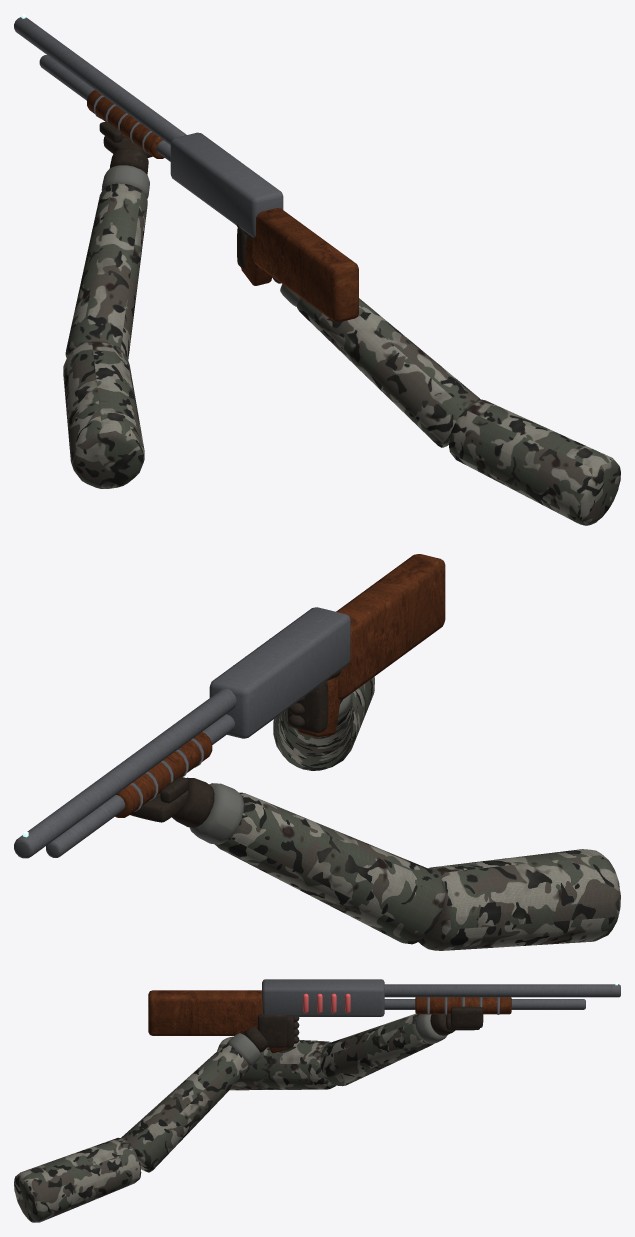
The model's file is vm_shotgun.glb.
3 renders of one model, top to bottom at view 1: azimuth 30°, elevation 25°; view 2: azimuth 150°, elevation 25°; view 3: azimuth 270°, elevation 25°, orthographic. The views are drawn at different scales.
Visible parts, largest first — view 1: UpperArmR, UpperArmL, ForearmR, ForearmL, Stock, Receiver, HeavyBarrel, PumpForend, MagTube, CuffL; view 2: UpperArmL, ForearmL, Receiver, Stock, HeavyBarrel, ForearmR, PumpForend, MagTube, CuffL, WristL, FingersR, UpperArmR (+2 smaller); view 3: UpperArmR, ForearmR, Stock, ForearmL, Receiver, UpperArmL, HeavyBarrel, PumpForend, MagTube, PalmR, FingersL, CuffR (+1 smaller).
Part boxes in pixels (<box>): UpperArmR: <box>449,399,620,525</box>; UpperArmL: <box>63,341,144,488</box>; ForearmR: <box>296,298,479,447</box>; ForearmL: <box>65,183,147,359</box>; Stock: <box>252,208,358,322</box>; Receiver: <box>170,132,283,237</box>; HeavyBarrel: <box>14,17,186,144</box>; PumpForend: <box>87,90,164,158</box>; MagTube: <box>39,55,170,161</box>; CuffL: <box>101,165,149,198</box>; UpperArmL: <box>418,849,620,950</box>; ForearmL: <box>215,792,445,944</box>; Receiver: <box>209,607,350,738</box>; Stock: <box>336,554,445,699</box>; HeavyBarrel: <box>14,688,236,858</box>; ForearmR: <box>274,696,353,770</box>; PumpForend: <box>115,732,212,817</box>; MagTube: <box>46,714,234,857</box>; CuffL: <box>189,783,243,844</box>; WristL: <box>172,777,214,827</box>; FingersR: <box>287,681,328,732</box>; UpperArmR: <box>273,677,374,767</box>; UpperArmR: <box>14,1137,141,1222</box>; ForearmR: <box>121,1044,249,1172</box>; Stock: <box>148,990,262,1035</box>; ForearmL: <box>320,1013,434,1086</box>; Receiver: <box>262,979,384,1016</box>; UpperArmL: <box>217,1036,335,1090</box>; HeavyBarrel: <box>384,984,620,997</box>; PumpForend: <box>415,997,511,1014</box>; MagTube: <box>384,999,585,1009</box>; PalmR: <box>257,1014,287,1047</box>; FingersL: <box>450,1006,483,1027</box>; CuffR: <box>227,1033,260,1067</box>.
Bounding box in the file's own units: 0.7741 × 0.4561 × 1.39.
Materials: 8 (4 with a texture image).
